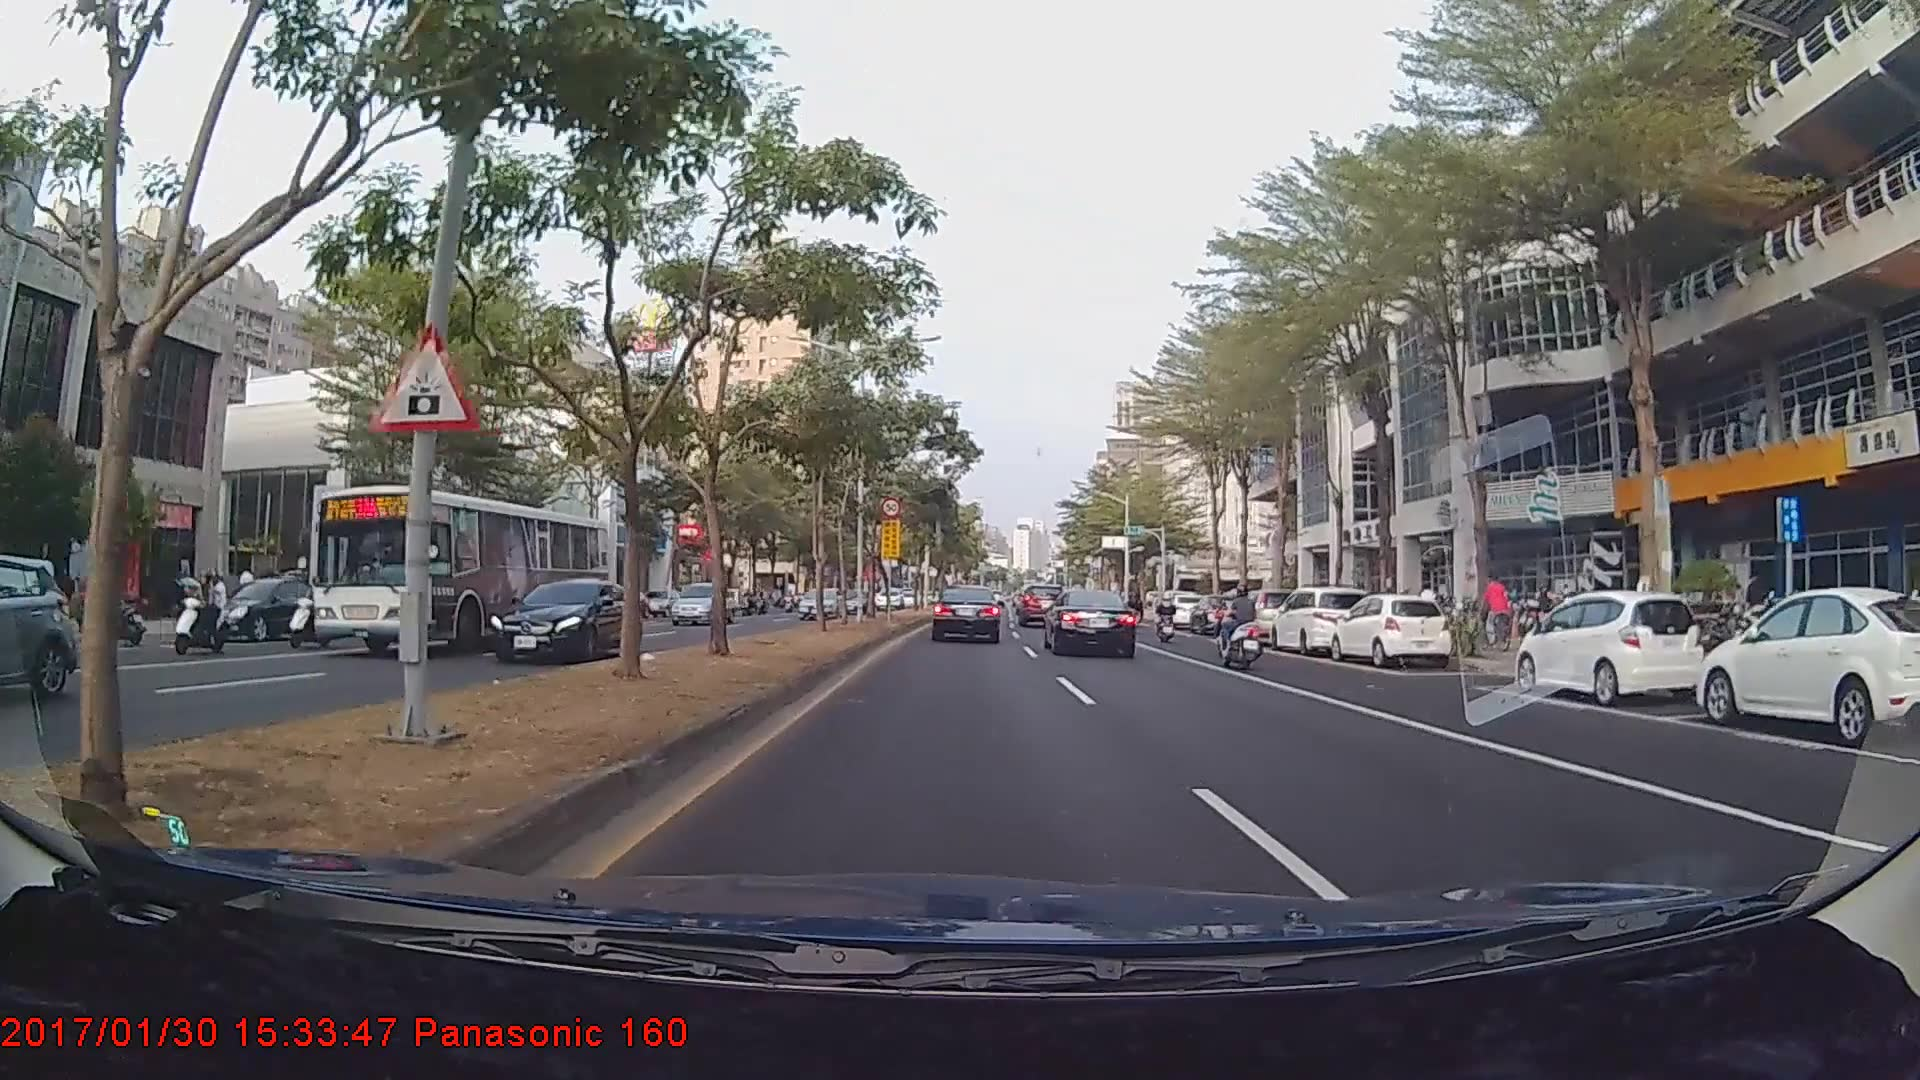rider: (1214, 582, 1280, 667), (1215, 587, 1265, 659), (1473, 572, 1517, 653), (1155, 586, 1183, 643)
vehicle: (303, 479, 610, 656), (1694, 585, 1920, 743), (1512, 588, 1705, 709), (488, 572, 645, 662), (0, 555, 79, 704), (1330, 592, 1450, 667), (198, 576, 334, 641), (1269, 584, 1373, 653), (1044, 587, 1139, 658), (931, 584, 1003, 643), (1231, 585, 1308, 641), (668, 581, 732, 625), (1017, 580, 1067, 625), (794, 584, 844, 619)
